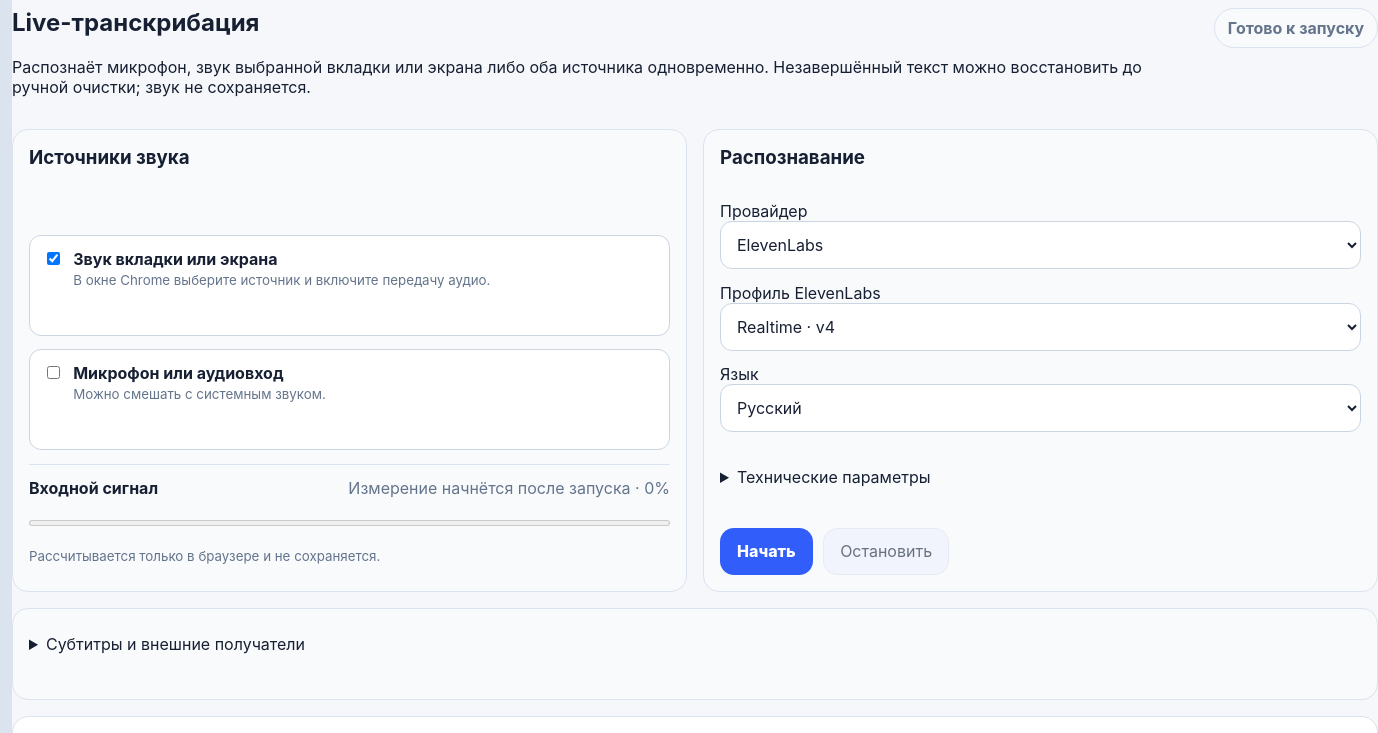
Test case: LiveTranscriptionPanel › does not announce readiness when no audio source is selected
Expected: the button "Начать" is enabled, [720,528,813,575]
Click the checkbox labelled "Звук вкладки или экрана".
click(53, 259)  # box [47,252,60,265]
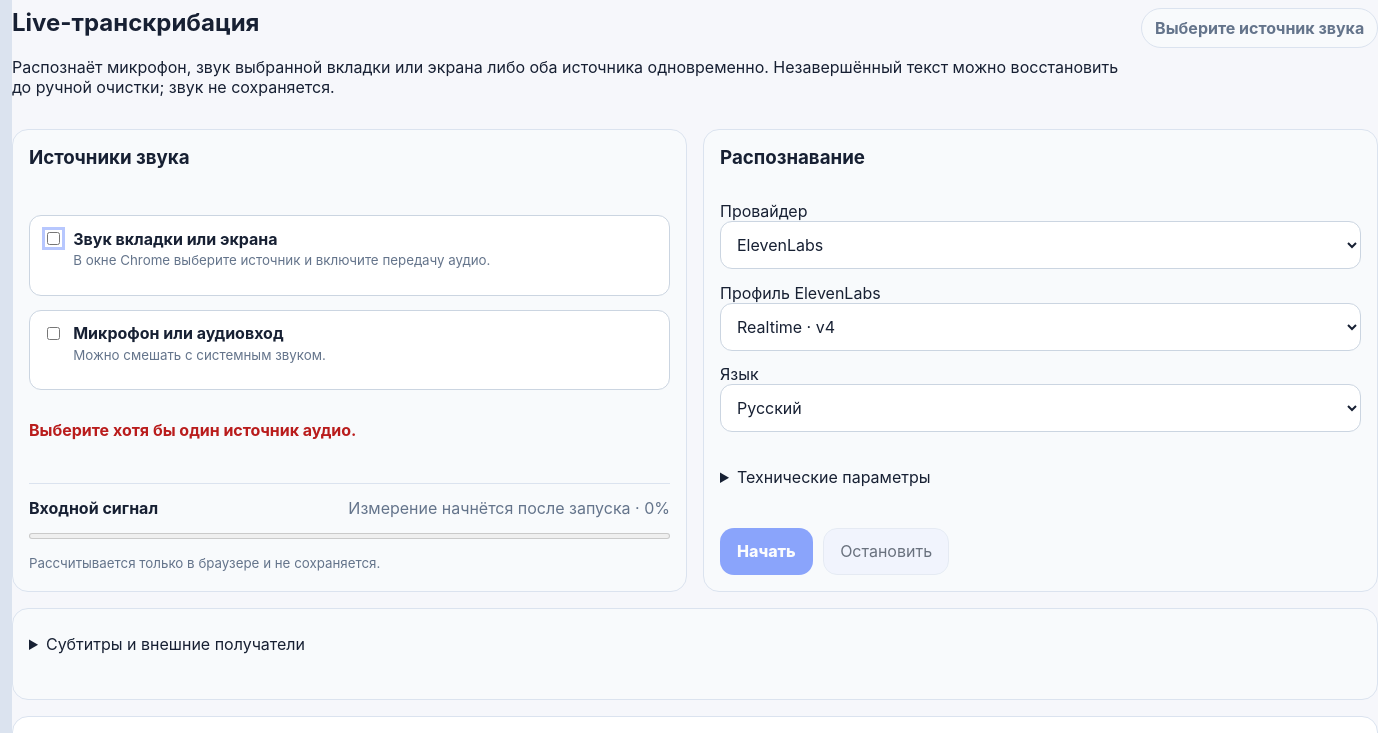
Now the button "Начать" is disabled, box [720,528,813,575]
Now the text "Выберите источник звука" is shown, box [1141,8,1377,48]
Now the text "Готово к запуску" is gone
